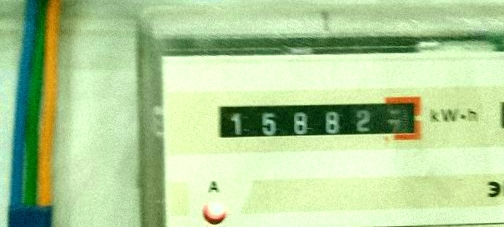1: (229, 110, 243, 136)
2: (355, 106, 371, 132)
5: (260, 110, 276, 135)
7: (386, 116, 400, 132)
8: (323, 107, 339, 133), (291, 110, 308, 134)
screen: (205, 88, 432, 151)
